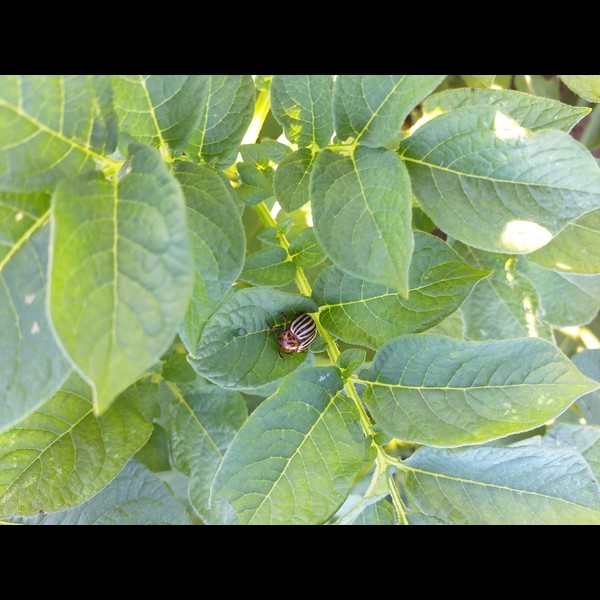hrosc: (274, 310, 318, 358)
